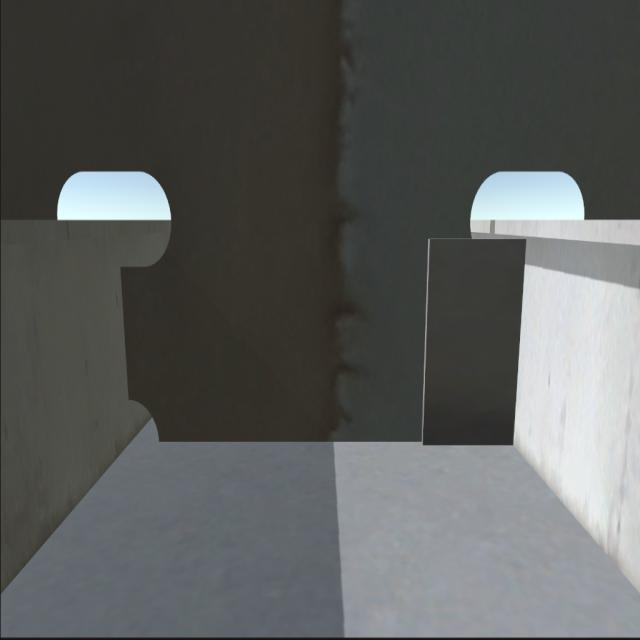fillet_hole: (124, 393, 162, 448)
fillet_yong_jeop_jang: (155, 430, 518, 457)
longi_yong_jeop_jang: (503, 237, 533, 448)
plate_CP01: (424, 231, 524, 448)
